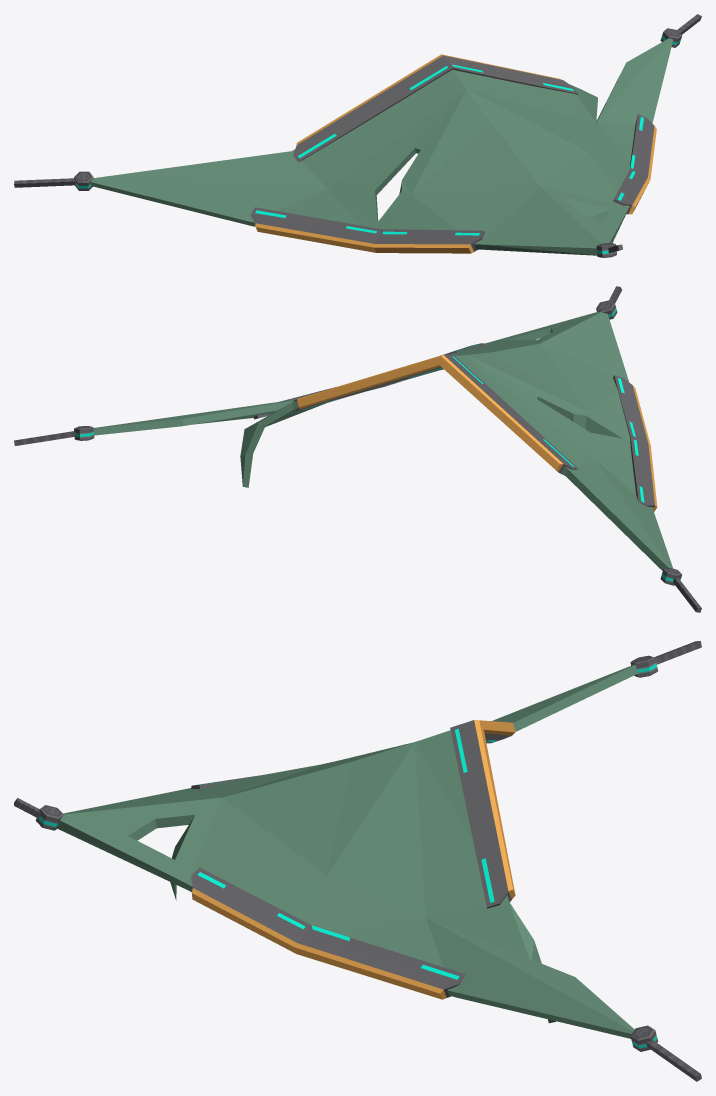
The model's file is SM_Prop_Canopy_06.fbx.
3 renders of one model, top to bottom at view 1: azimuth 30°, elevation 25°; view 2: azimuth 150°, elevation 25°; view 3: azimuth 270°, elevation 25°, orthographic. The views are drawn at different scales.
Visible parts, largest first — view 1: SM_Prop_Canopy_05_Fabric_01, SM_Prop_Canopy_06; view 2: SM_Prop_Canopy_05_Fabric_01, SM_Prop_Canopy_06; view 3: SM_Prop_Canopy_05_Fabric_01, SM_Prop_Canopy_06.
Boxes of the visible parts, x1,y1,x2,y2 form: SM_Prop_Canopy_05_Fabric_01: (90,38,672,255); SM_Prop_Canopy_06: (14,14,701,257); SM_Prop_Canopy_05_Fabric_01: (93,311,672,570); SM_Prop_Canopy_06: (14,286,701,612); SM_Prop_Canopy_05_Fabric_01: (57,664,638,1038); SM_Prop_Canopy_06: (14,641,701,1081).
Size of the model in its own units: 826 by 175 by 551.
